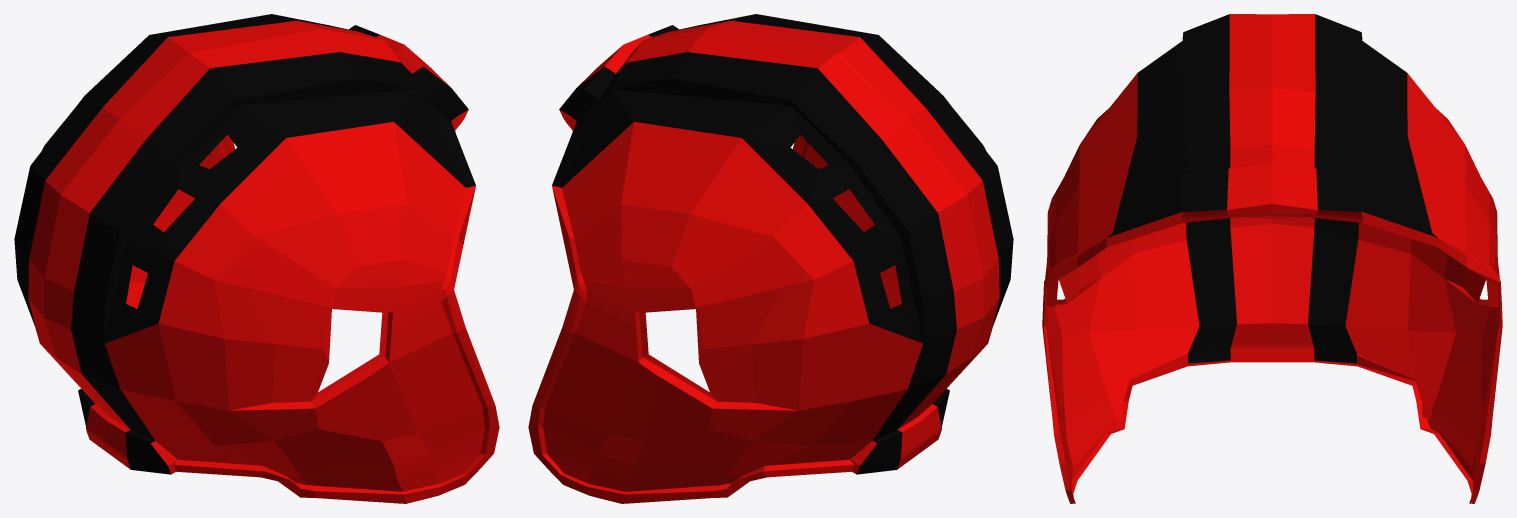
File: kask.fbx
The picture shows the model from 3 angles, left to right: view 1: azimuth 30°, elevation 25°; view 2: azimuth 150°, elevation 25°; view 3: azimuth 270°, elevation 25°; orthographic projection.
Visible parts, largest first — view 1: Sphere; view 2: Sphere; view 3: Sphere.
Boxes of the visible parts, x1,y1,x2,y2 form: Sphere: (14, 14, 499, 503); Sphere: (528, 14, 1013, 503); Sphere: (1042, 14, 1502, 503).
Size of the model in its own units: 190 by 192 by 195.
